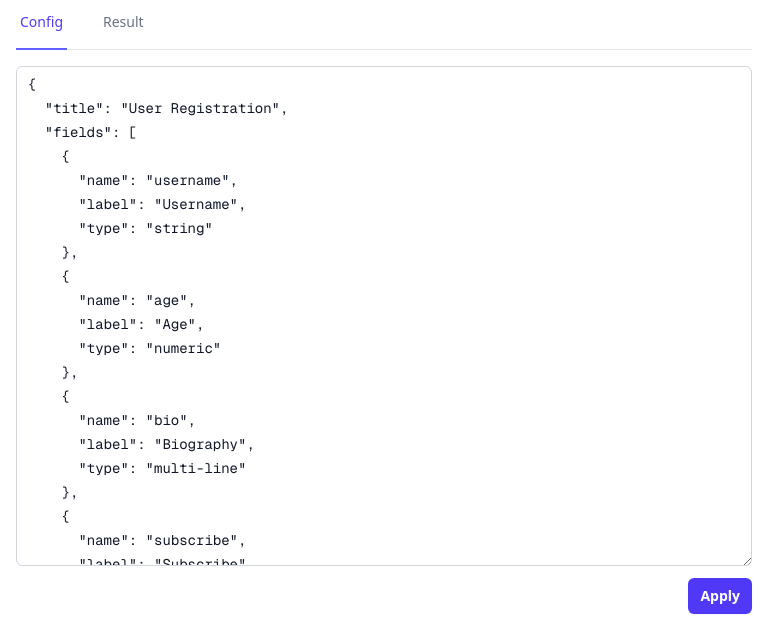
Test: HomePage (page.tsx) › switches to Result and shows error panel when config invalid
Note: Apply navigates to Result and shows error panel
Click the button "Apply".
click(720, 596)  # box [688,578,752,614]
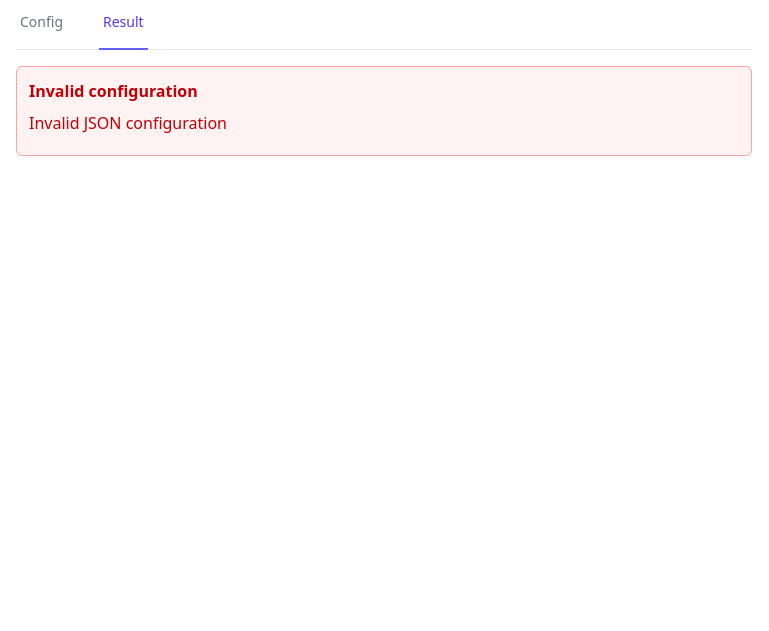
Expected: the text "Invalid configuration" is shown, [29,80,198,102]
Expected: the text "Invalid JSON configuration" is shown, [29,112,227,134]
